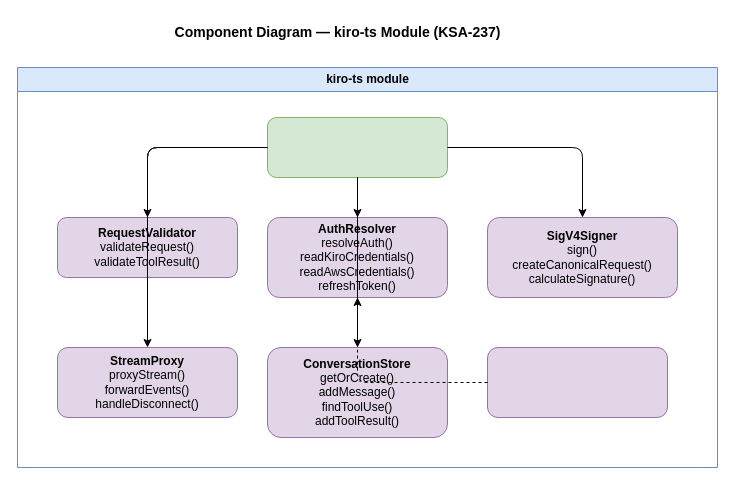
Some shapes in this 735 by 485 pixel diagram are drawn without their labels. The shapes that lost their labels are listed below. From the top down, each one's centre as x and y in pixels, then its label:
At (357,147): "ChatHandler handleChatRoute() processChatRequest()".
At (577,382): "HealthChecker check() checkCredentials() checkConnectivity()".
